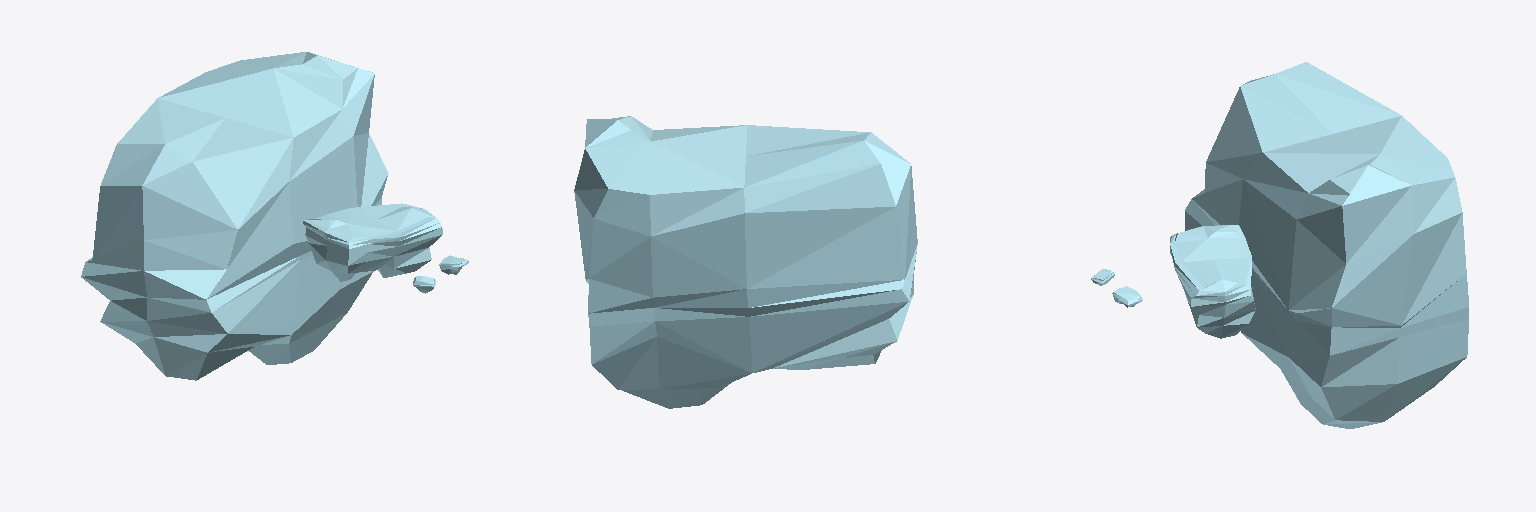
File: iceberg.obj
3 views of the same model, side by side, from view 1: azimuth 30°, elevation 25°; view 2: azimuth 150°, elevation 25°; view 3: azimuth 270°, elevation 25° (orthographic).
Parts seen in each view (by area): view 1: Object_5; view 2: Object_5; view 3: Object_5.
Boxes of the visible parts, x1,y1,x2,y2 form: Object_5: [81, 52, 468, 380]; Object_5: [574, 116, 917, 408]; Object_5: [1091, 62, 1468, 428].
Bounding box in the file's own units: 68.44 × 58.86 × 70.89.